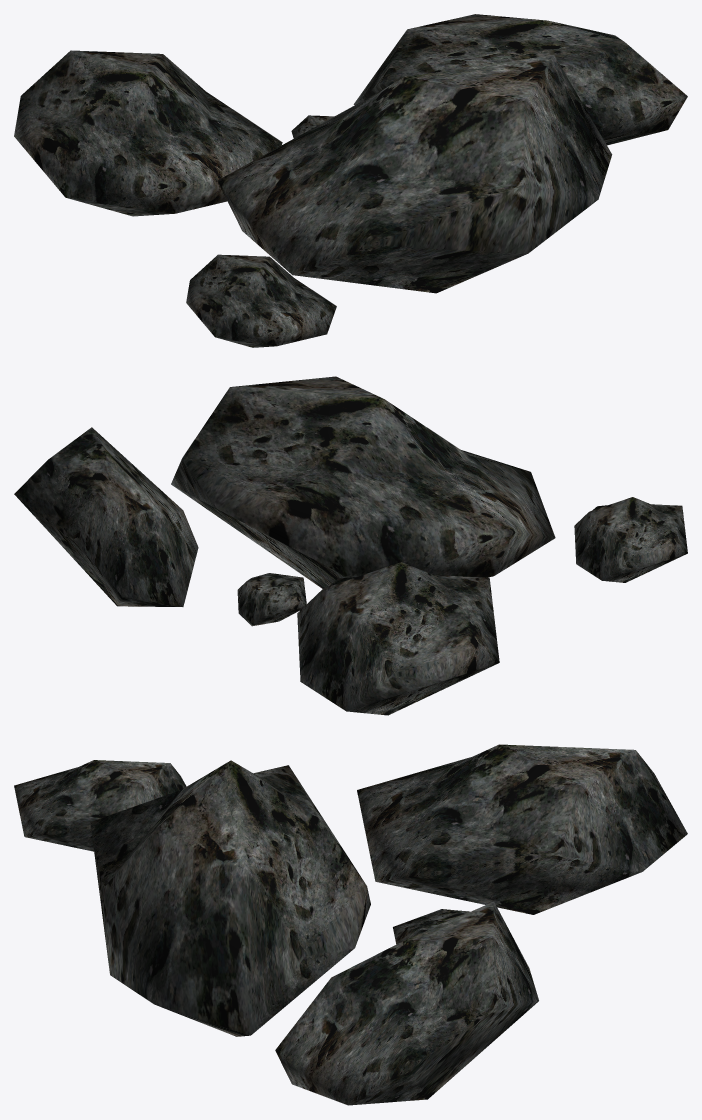
File: rock_scorched_tiny_l0.fbx
The picture shows the model from 3 angles, top to bottom: view 1: azimuth 30°, elevation 25°; view 2: azimuth 150°, elevation 25°; view 3: azimuth 270°, elevation 25°; orthographic projection. The views are drawn at different scales.
Parts seen in each view (by area): view 1: mesh_node; view 2: mesh_node; view 3: mesh_node.
Boxes of the visible parts, x1,y1,x2,y2 form: mesh_node: (14, 14, 687, 347); mesh_node: (14, 376, 687, 715); mesh_node: (14, 744, 687, 1105).
Size of the model in its own units: 1.71 by 0.6309 by 1.5.
1 material, 1 textured.
